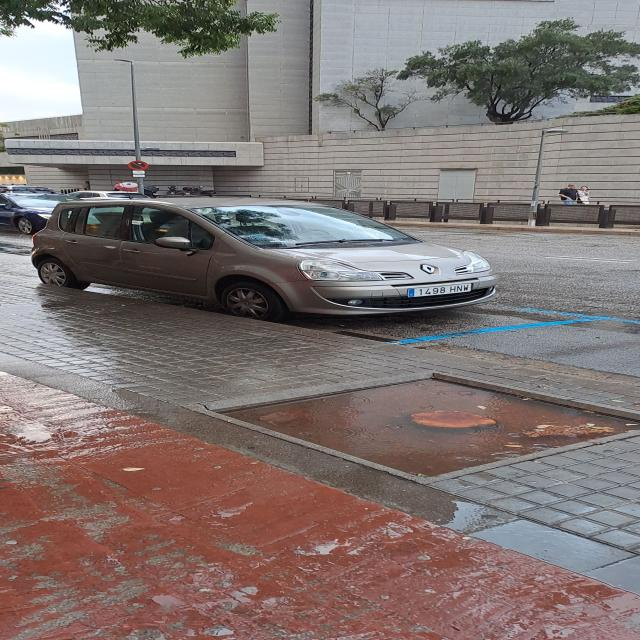license_plate-34Td: (407, 283, 472, 298)
